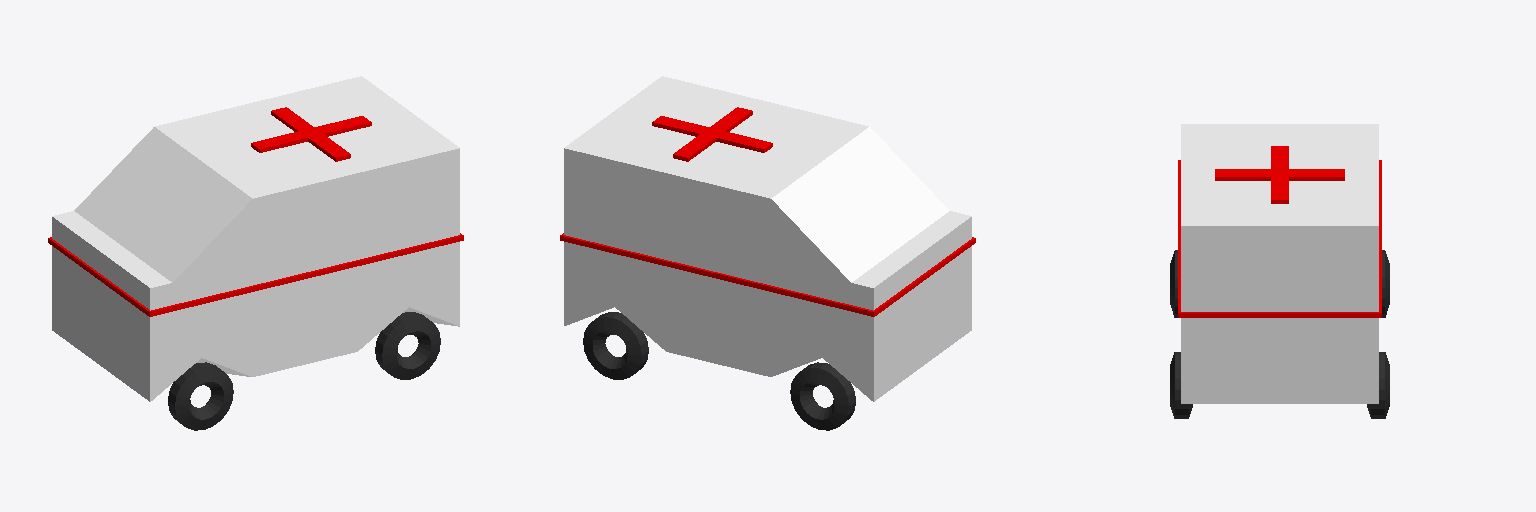
Rendered from res.obj.
3 views of the same model, side by side, from view 1: azimuth 30°, elevation 25°; view 2: azimuth 150°, elevation 25°; view 3: azimuth 270°, elevation 25° (orthographic).
Parts seen in each view (by area): view 1: pCube3, pTorus2, pTorus4, pCube2, pCube5, pCube4; view 2: pCube3, pTorus1, pTorus3, pCube2, pCube5, pCube4; view 3: pCube3, pCube2, pCube4, pCube5, pTorus1, pTorus2.
Boxes of the visible parts, x1=… form: pCube3: x1=52, y1=76, x2=459, y2=401; pTorus2: x1=375, y1=312, x2=440, y2=379; pTorus4: x1=168, y1=362, x2=233, y2=430; pCube2: x1=48, y1=233, x2=463, y2=316; pCube5: x1=251, y1=116, x2=371, y2=152; pCube4: x1=271, y1=107, x2=350, y2=161; pCube3: x1=564, y1=76, x2=971, y2=401; pTorus1: x1=583, y1=312, x2=648, y2=379; pTorus3: x1=790, y1=362, x2=855, y2=430; pCube2: x1=560, y1=233, x2=975, y2=316; pCube5: x1=652, y1=116, x2=772, y2=152; pCube4: x1=673, y1=107, x2=752, y2=161; pCube3: x1=1181, y1=124, x2=1378, y2=403; pCube2: x1=1178, y1=160, x2=1381, y2=317; pCube4: x1=1215, y1=169, x2=1344, y2=180; pCube5: x1=1271, y1=146, x2=1288, y2=203; pTorus1: x1=1367, y1=352, x2=1389, y2=418; pTorus2: x1=1170, y1=352, x2=1192, y2=418.
Bounding box in the file's own units: 7.36 × 4.93 × 4.46.